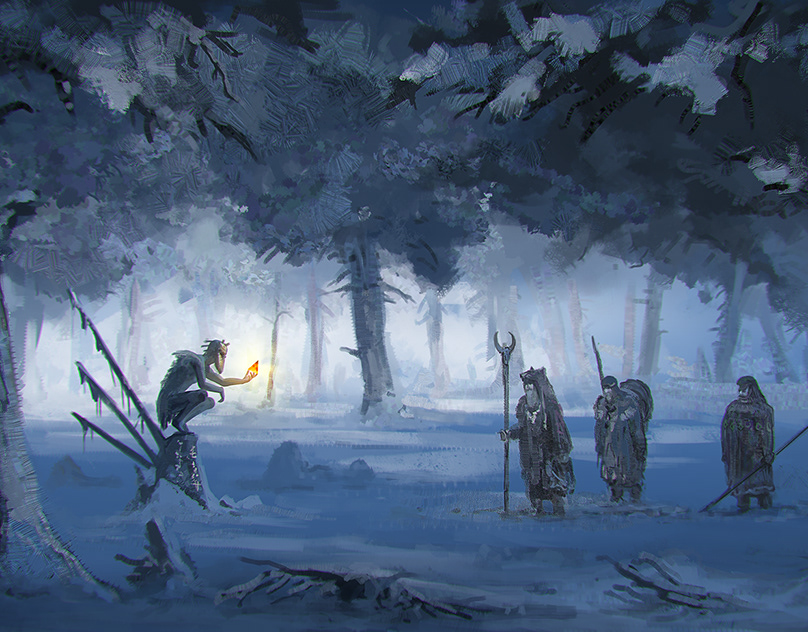not a gesture sign: (301, 263, 334, 402)
